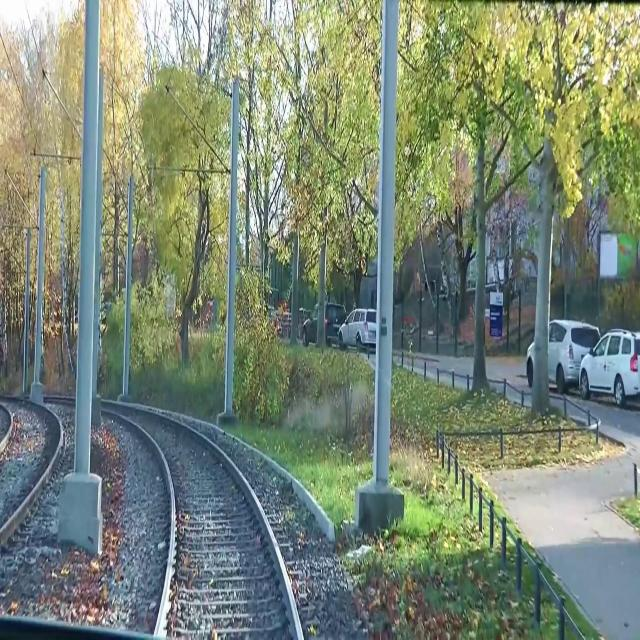rail-track: (112, 407, 298, 639), (0, 400, 59, 524)
